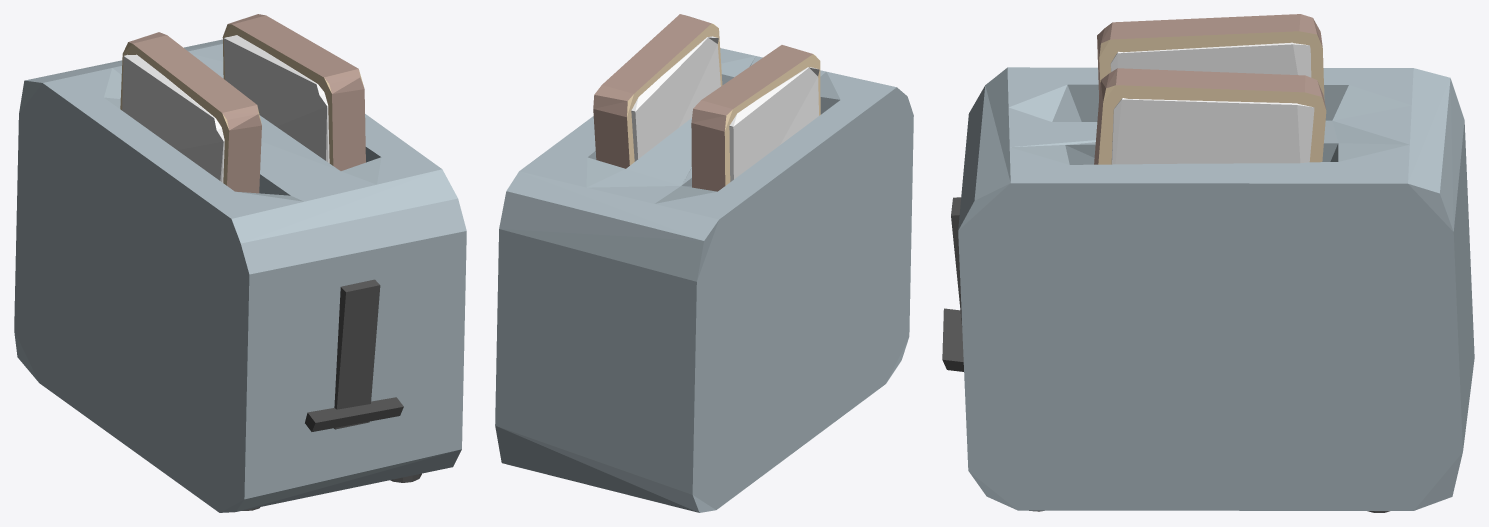
Rendered from toaster.gltf.
3 renders of one model, left to right at view 1: azimuth 30°, elevation 25°; view 2: azimuth 150°, elevation 25°; view 3: azimuth 270°, elevation 25°, orthographic. The views are drawn at different scales.
Parts seen in each view (by area): view 1: model; view 2: model; view 3: model.
Part boxes in pixels (bbox=[...]): model: bbox=[14, 14, 466, 512]; model: bbox=[495, 14, 913, 512]; model: bbox=[942, 14, 1474, 512].
Size of the model in its own units: 0.2273 by 0.3845 by 0.448.
